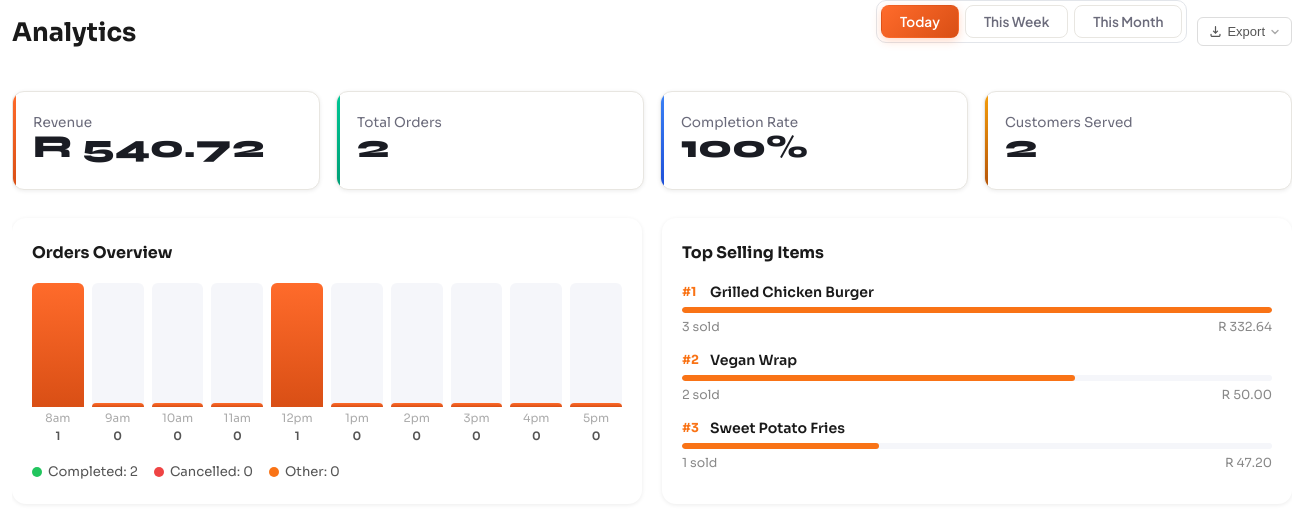
Test: Analytics – period switching › switches to This Week and updates stats correctly
Step 1. Click the button "This Week" → (1017, 22), box [965, 5, 1068, 38]
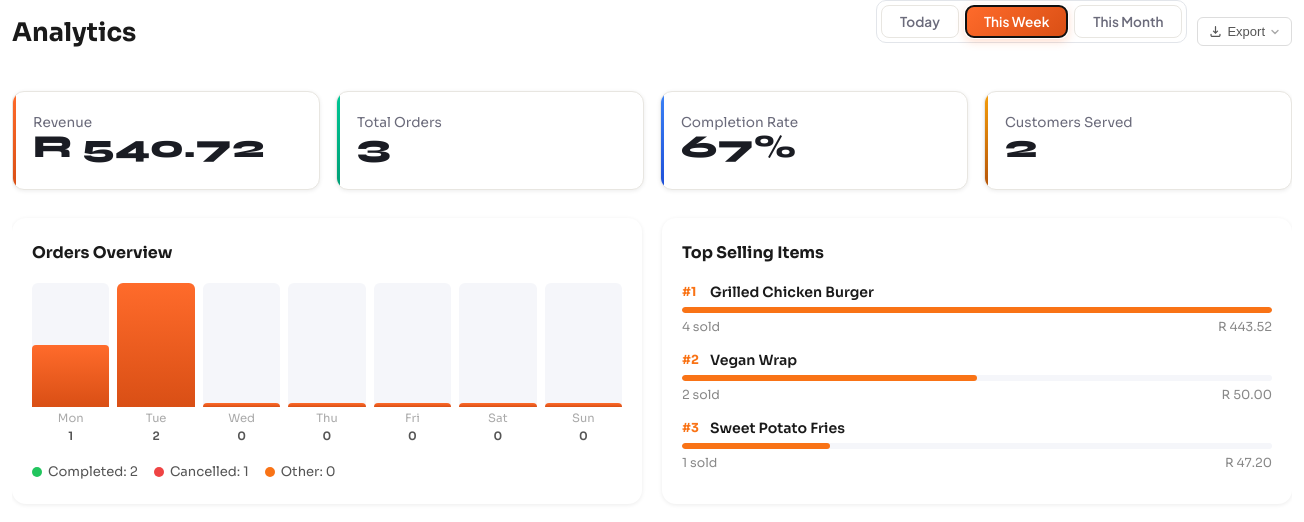
Expected: the heading "R 540.72" is shown, [33, 131, 299, 163]
Now the heading "67%" is shown, box [681, 127, 796, 166]
